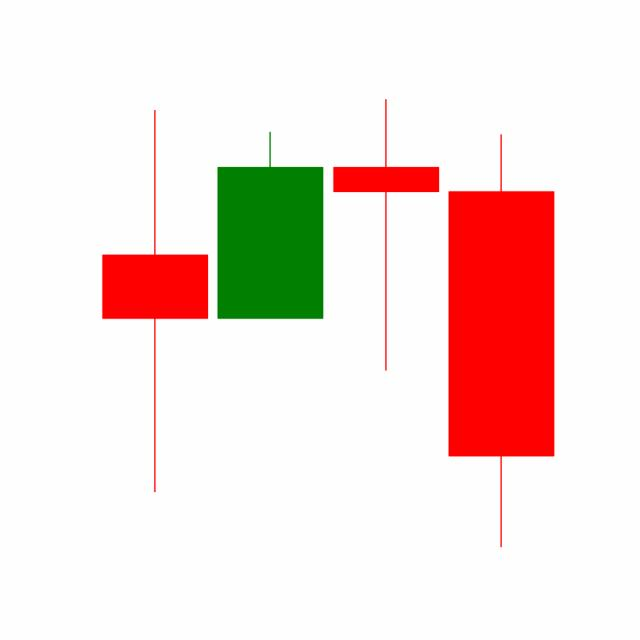Spinning Top: (328, 96, 444, 374)
